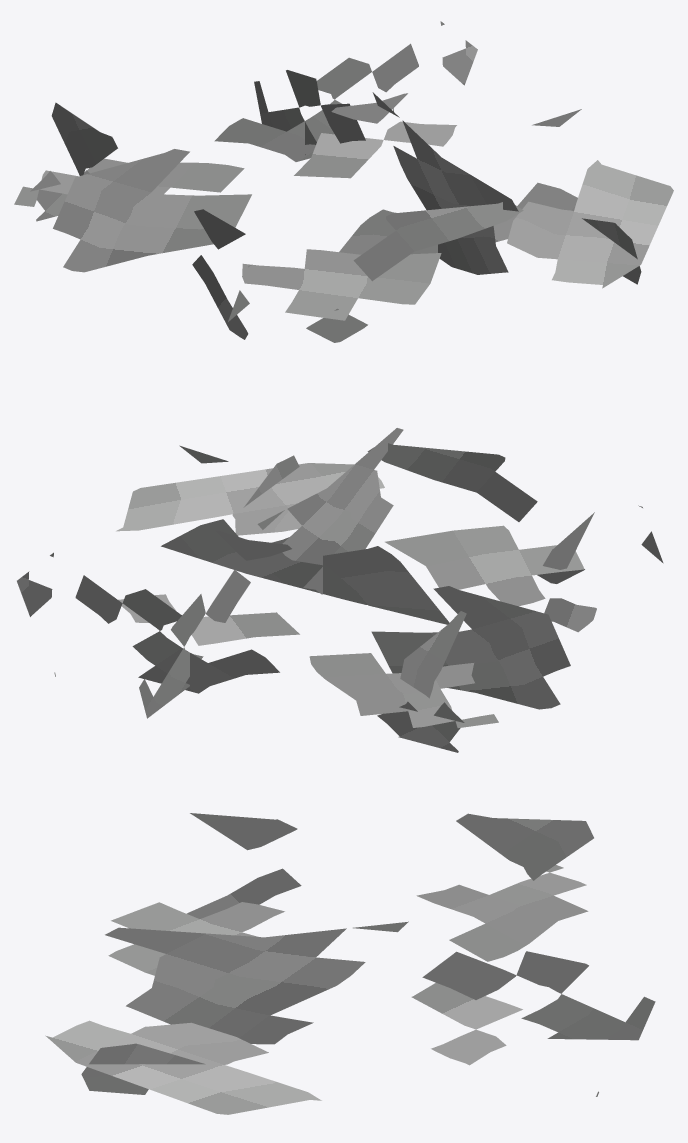
Rendered from vanilla_effects_ambient_fxmistlow01-2f4ef359.glb.
The picture shows the model from 3 angles, top to bottom: view 1: azimuth 30°, elevation 25°; view 2: azimuth 150°, elevation 25°; view 3: azimuth 270°, elevation 25°; orthographic projection. The views are drawn at different scales.
Parts seen in each view (by area): view 1: FXMistLow01:0; view 2: FXMistLow01:0; view 3: FXMistLow01:0.
Boxes of the visible parts, x1,y1,x2,y2 form: FXMistLow01:0: (14, 21, 673, 342); FXMistLow01:0: (17, 428, 663, 752); FXMistLow01:0: (45, 813, 655, 1114).
Bounding box in the file's own units: 12.87 × 2.53 × 12.18.
Materials: 1 (1 with a texture image).
